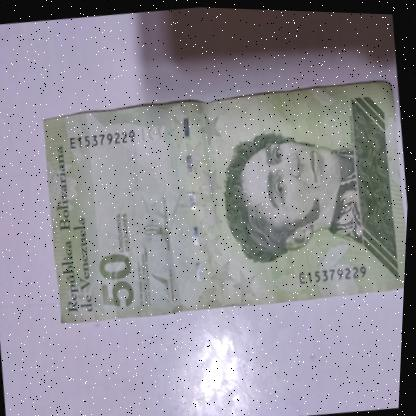fifty-front-vef: (36, 66, 414, 332)
